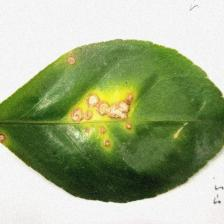canker: (66, 85, 150, 155)
